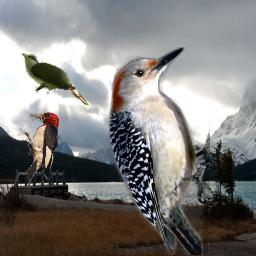Cuckoo: (20, 53, 89, 106)
Woodpecker: (109, 47, 210, 255), (22, 112, 59, 184)
